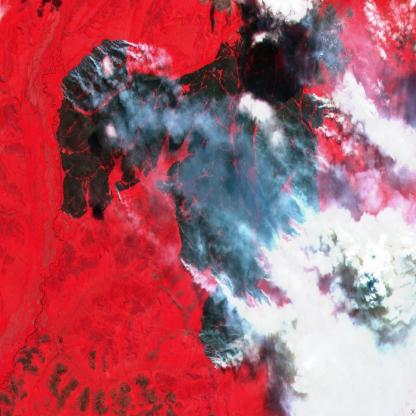fire: (55, 0, 356, 379)
